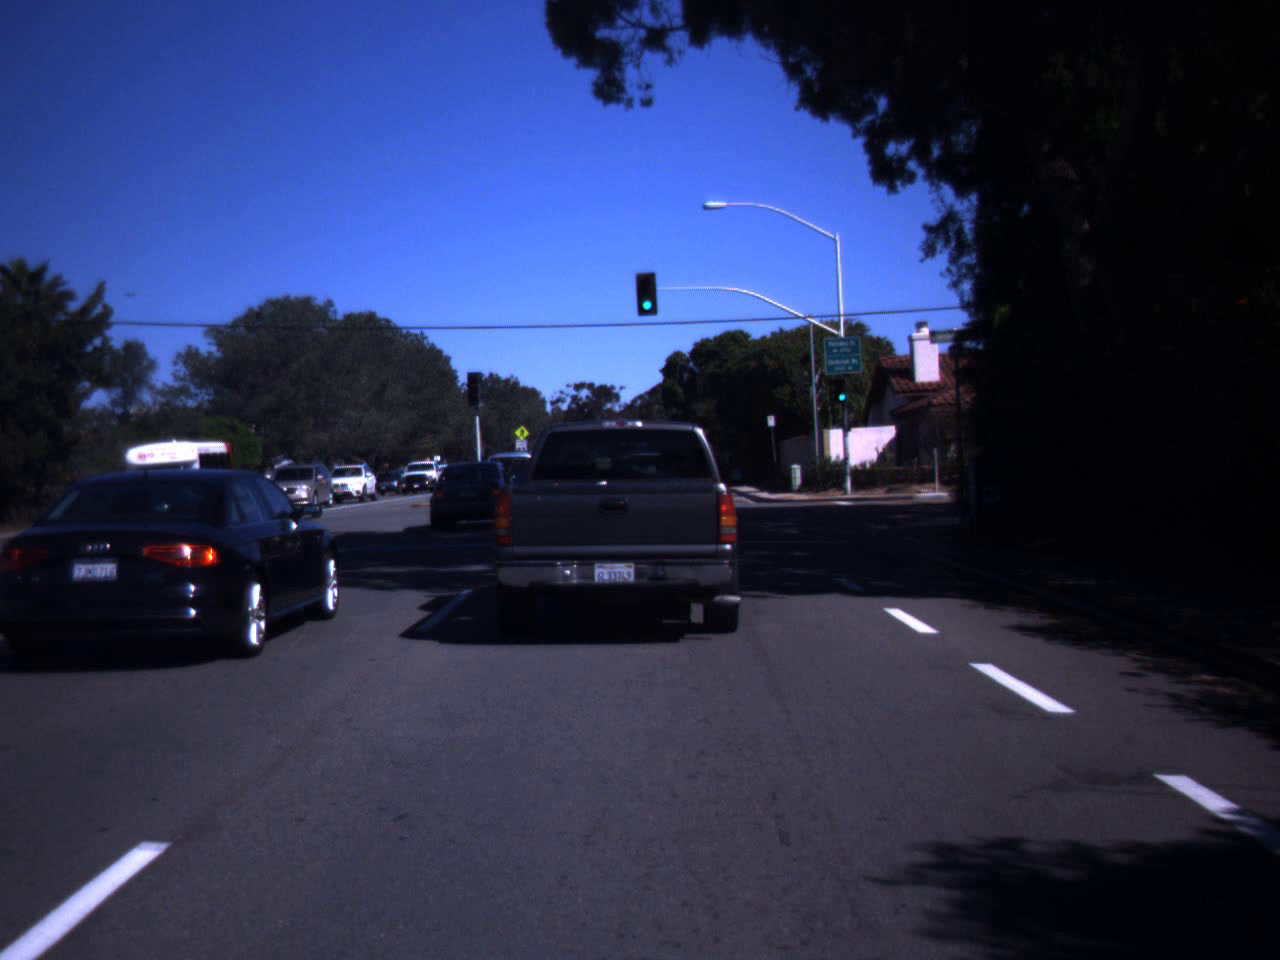go: (638, 277, 656, 312), (836, 377, 848, 402)
